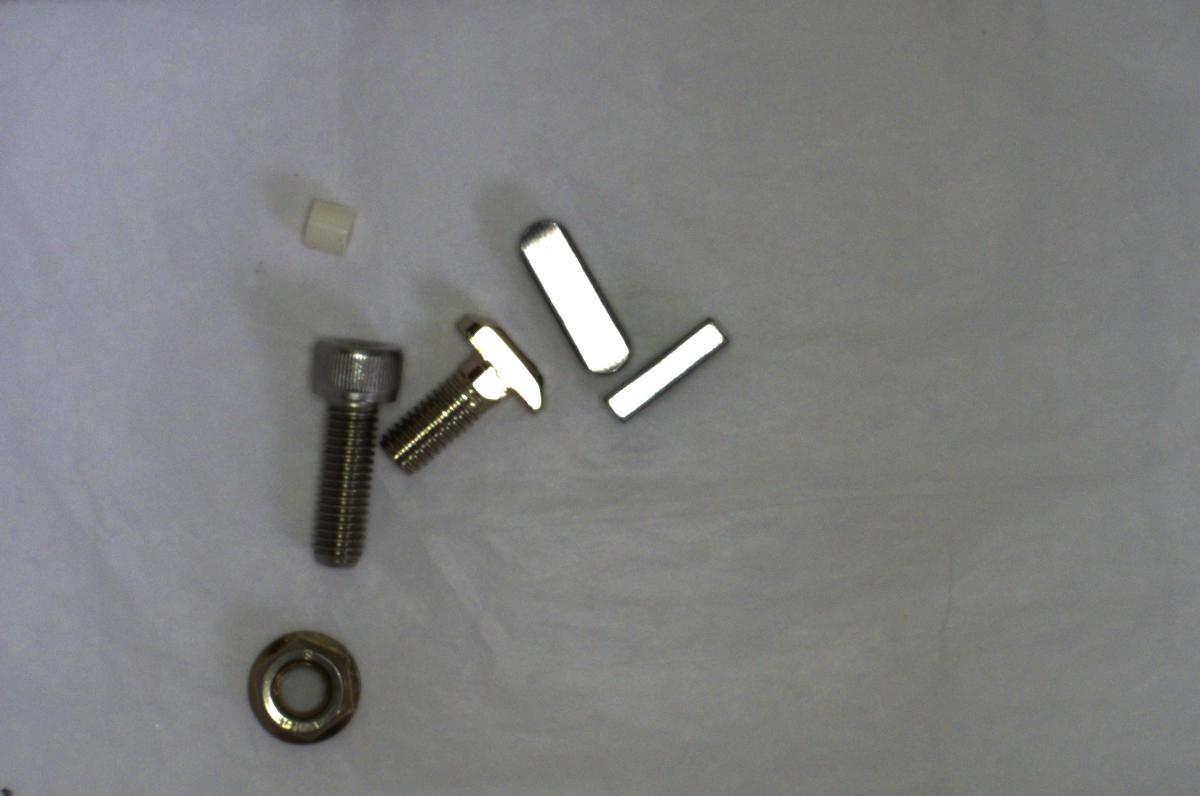Flange nut: (230, 622, 366, 749)
Hexagon screw: (294, 322, 405, 556)
Keybar: (513, 215, 634, 381)
Plastic cushion pillar: (295, 188, 367, 256)
Rectangular nut: (595, 315, 726, 423)
T-shaped screw: (372, 319, 544, 472)
